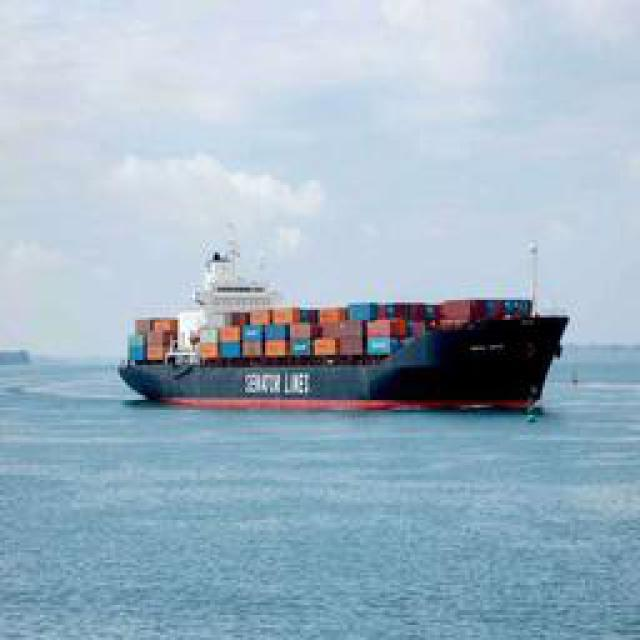Ship: (125, 243, 570, 418)
